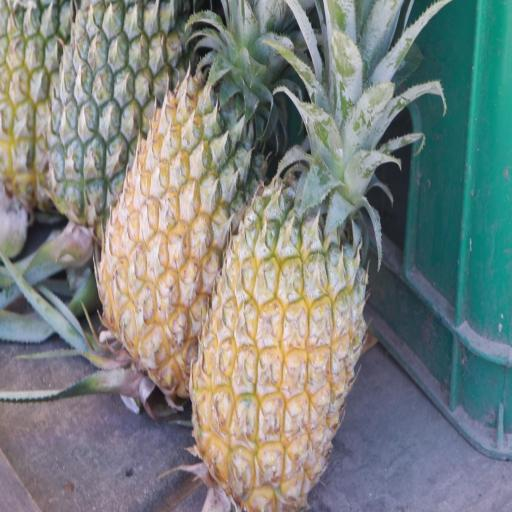Pineapple - v8 v1: (185, 105, 367, 512), (95, 20, 275, 416)
